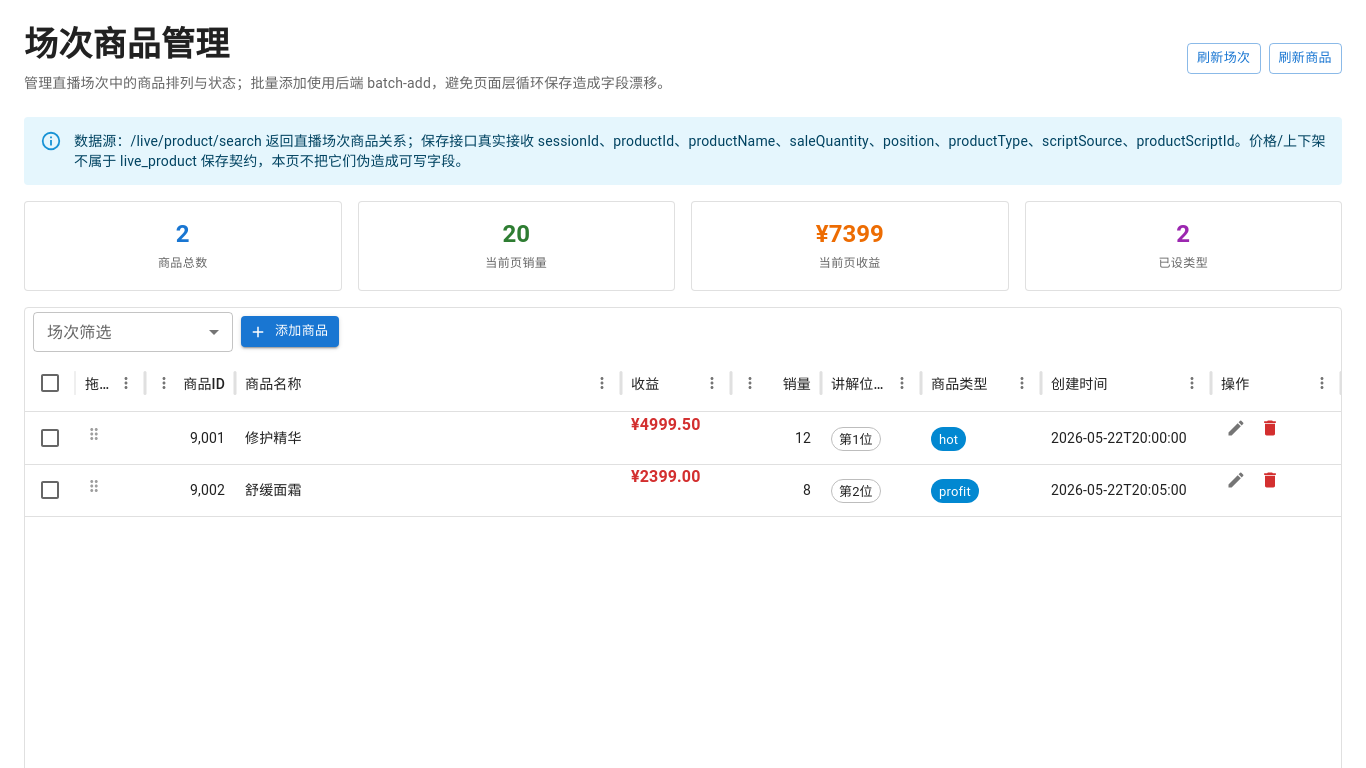
Test: LiveProductPage › shows save error inside dialog without closing it
This screenshot has width=1366, height=768.
Expected: the text "修护精华" is shown, [245,430,302,446]
Step 1. Click the button named "编辑" in the row of "9,001" → [1236, 428], box [1221,413,1251,443]
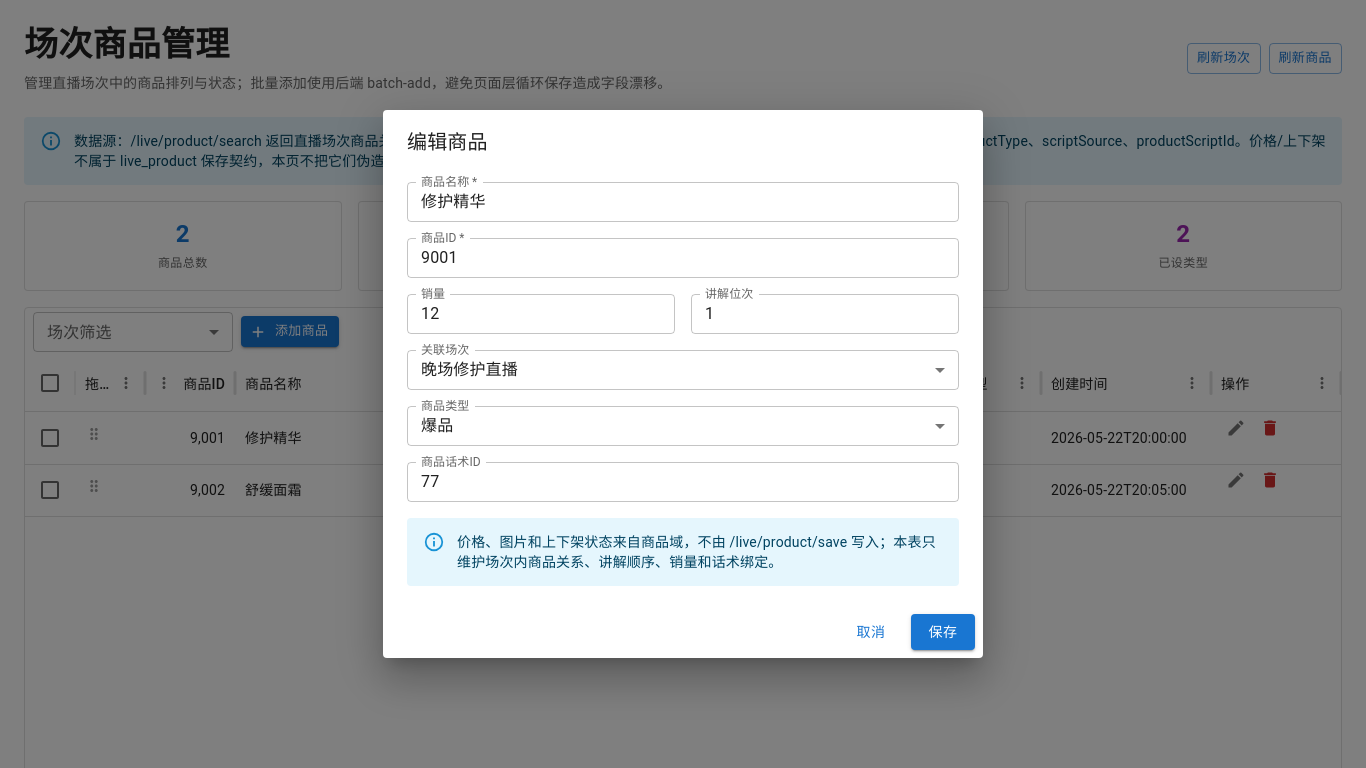
Step 2. Click the button "保存" → [943, 632], box [911,614,975,650]
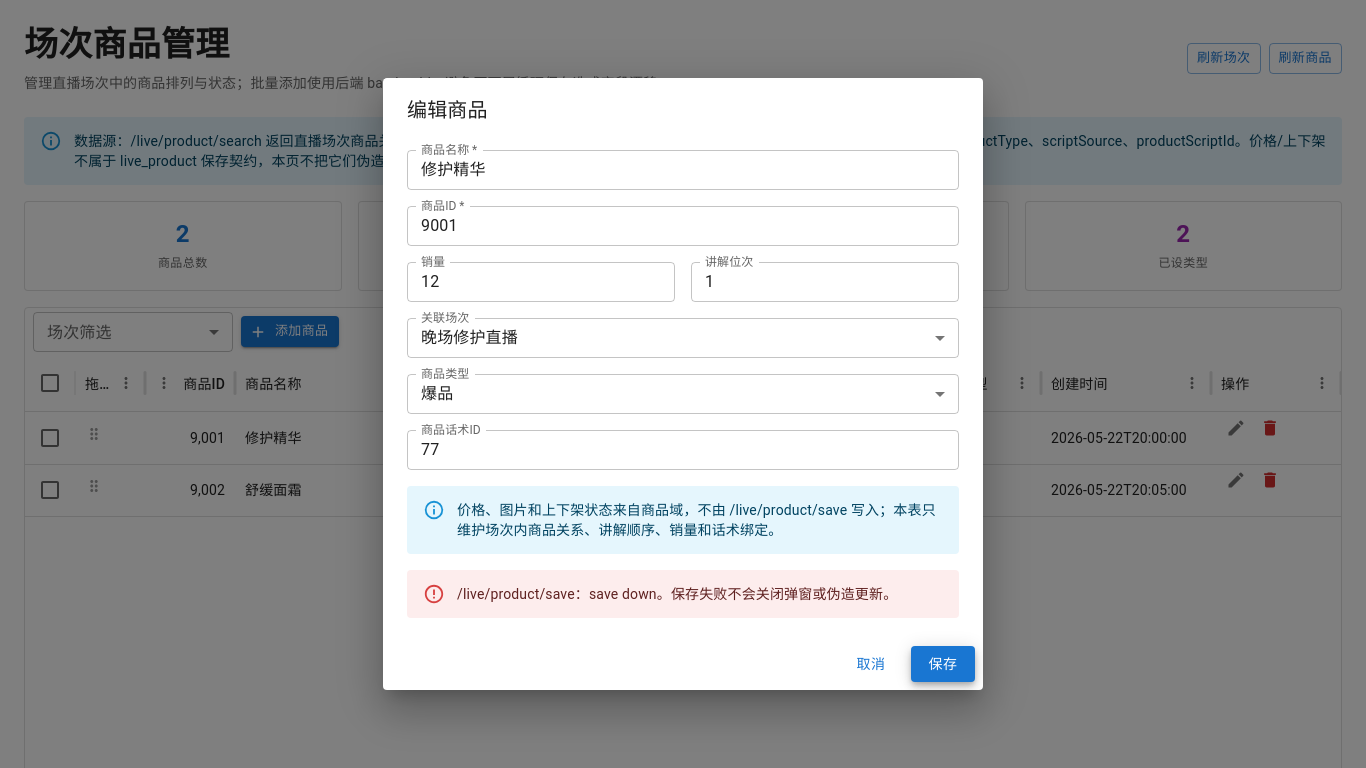
Result: the dialog is shown at [383,78,983,690]
Result: the text "/live/product/save：save down。保存失败不会关闭弹窗或伪造更新。" is shown at [457,586,897,602]
